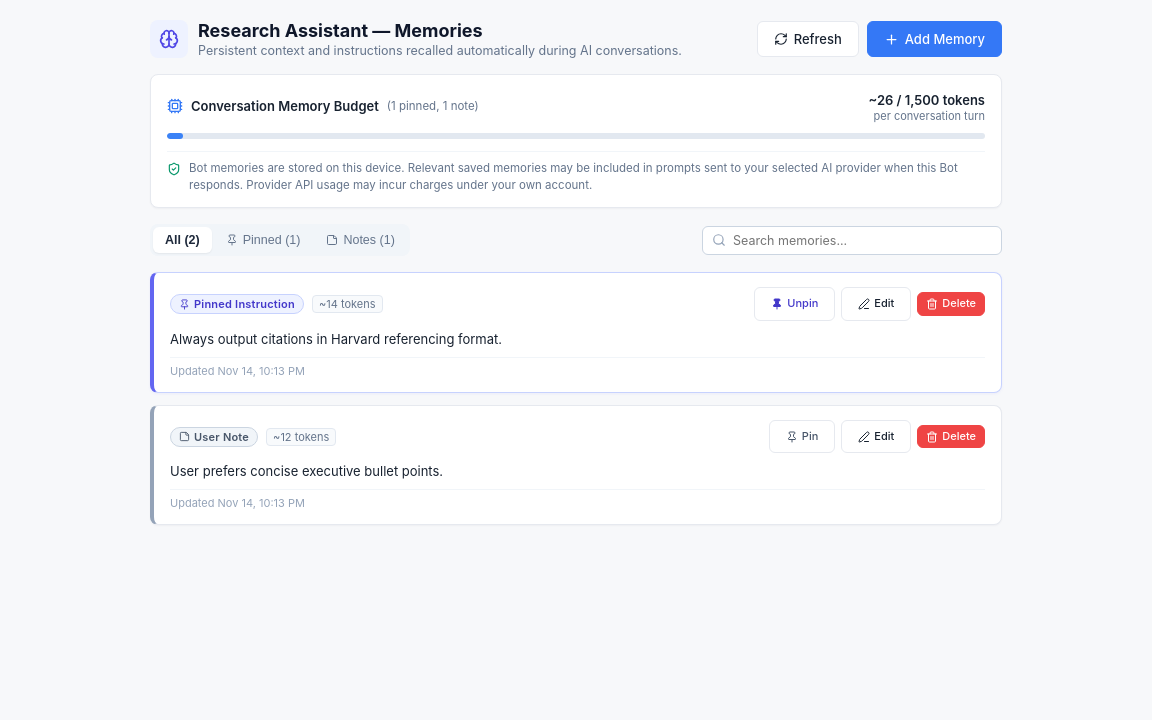
Test: Renderer: BotMemorySection (Phase 9 Step 9.3) › 8. edits an existing memory
This screenshot has width=1152, height=720.
# Open edit for mem-1
Click the button with test id "memory-edit-btn-mem-1" at x=876, y=304, box left=841, top=287, right=911, bottom=321
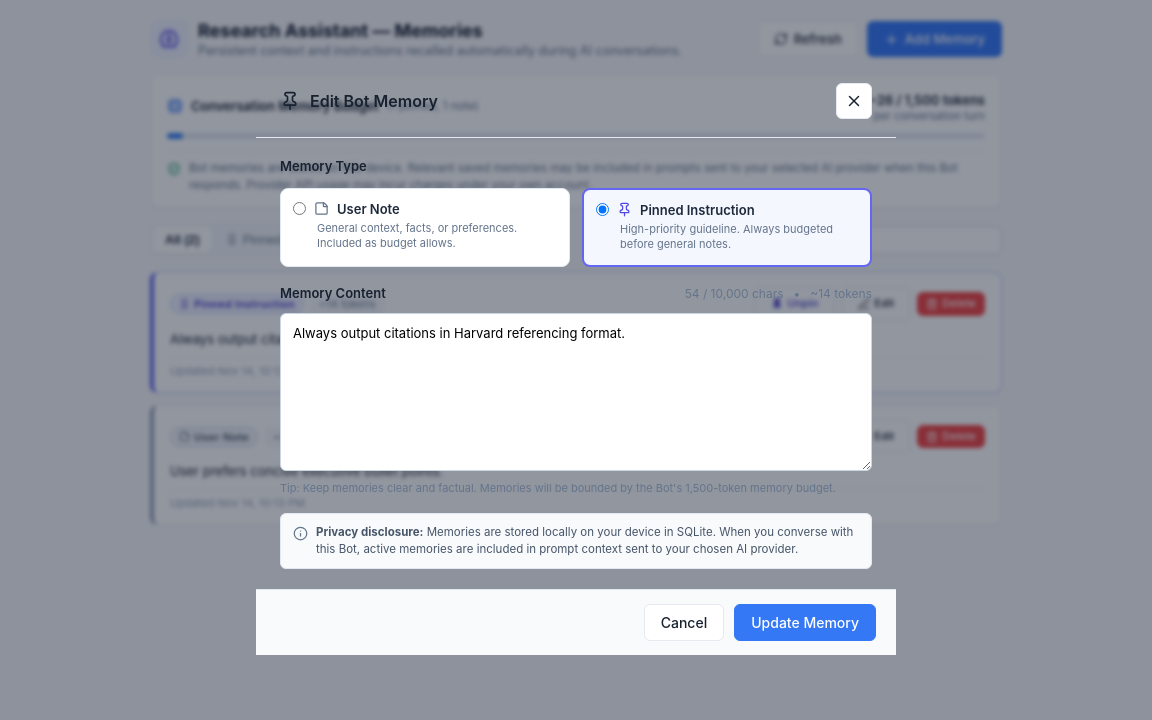
Check: the dialog with test id "bot-memory-editor-modal" is shown
Check: the heading "Edit Bot Memory" is shown, box left=310, top=91, right=438, bottom=111
Check: the text box with test id "textarea-memory-content" holds "Always output citations in Harvard referencing format."
# Edit content
Replace the text in the text box with test id "textarea-memory-content" with "Updated citation format to APA." at x=576, y=392, box left=280, top=313, right=872, bottom=471
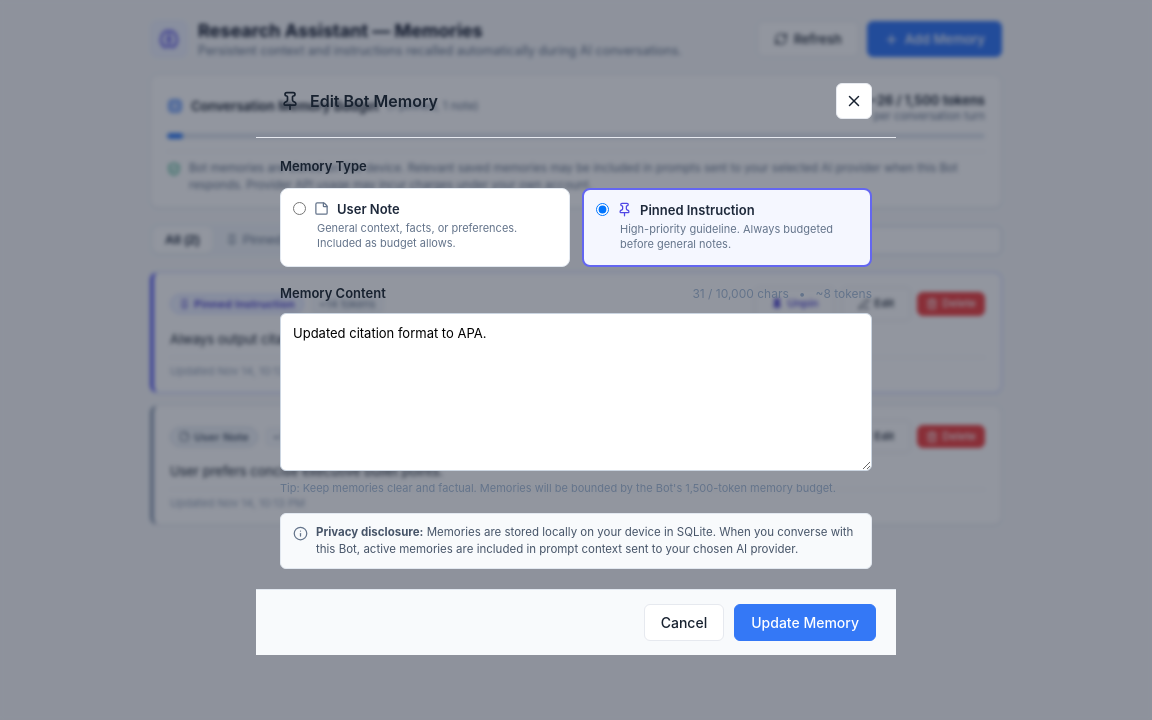
Click the button with test id "btn-save-memory" at x=805, y=622, box left=734, top=604, right=876, bottom=641
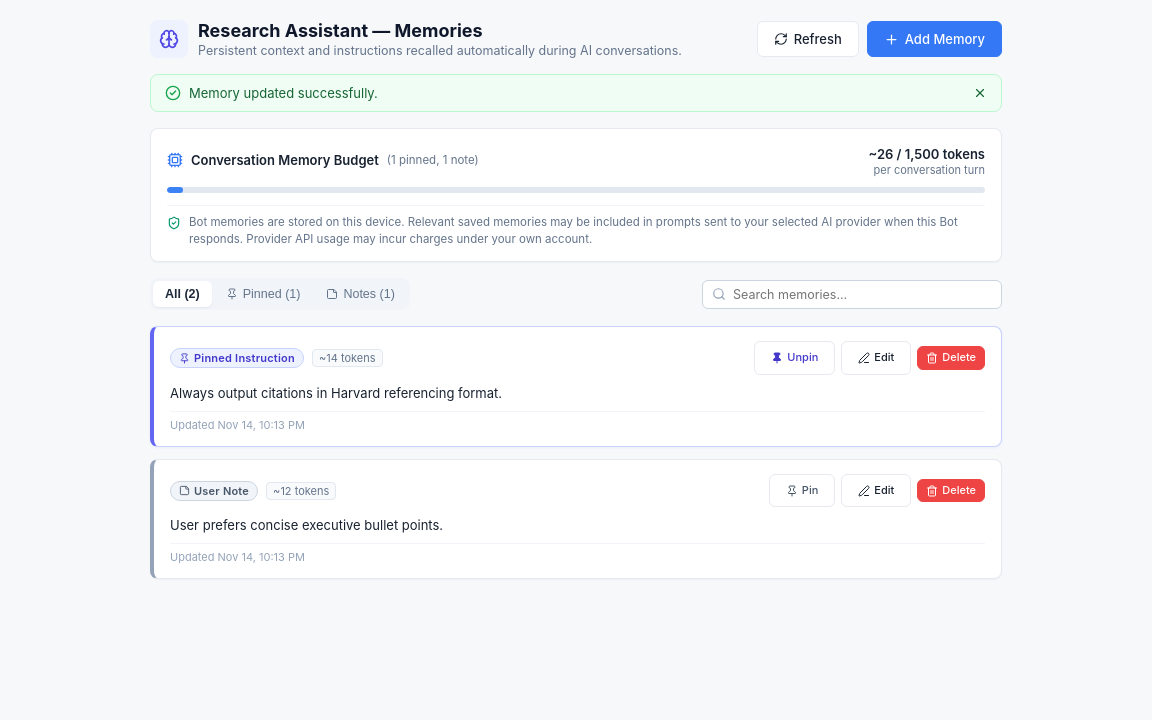
Check: the dialog with test id "bot-memory-editor-modal" is gone
